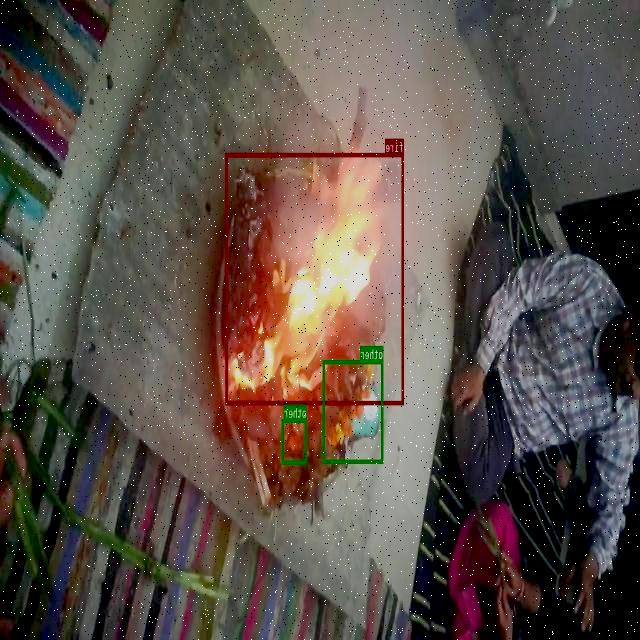fire: (227, 152, 404, 404)
